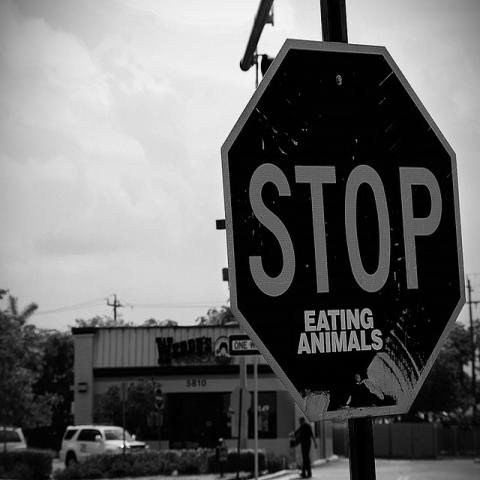car: (59, 425, 148, 468), (0, 428, 27, 452)
truck: (59, 423, 151, 470), (0, 427, 27, 452)
